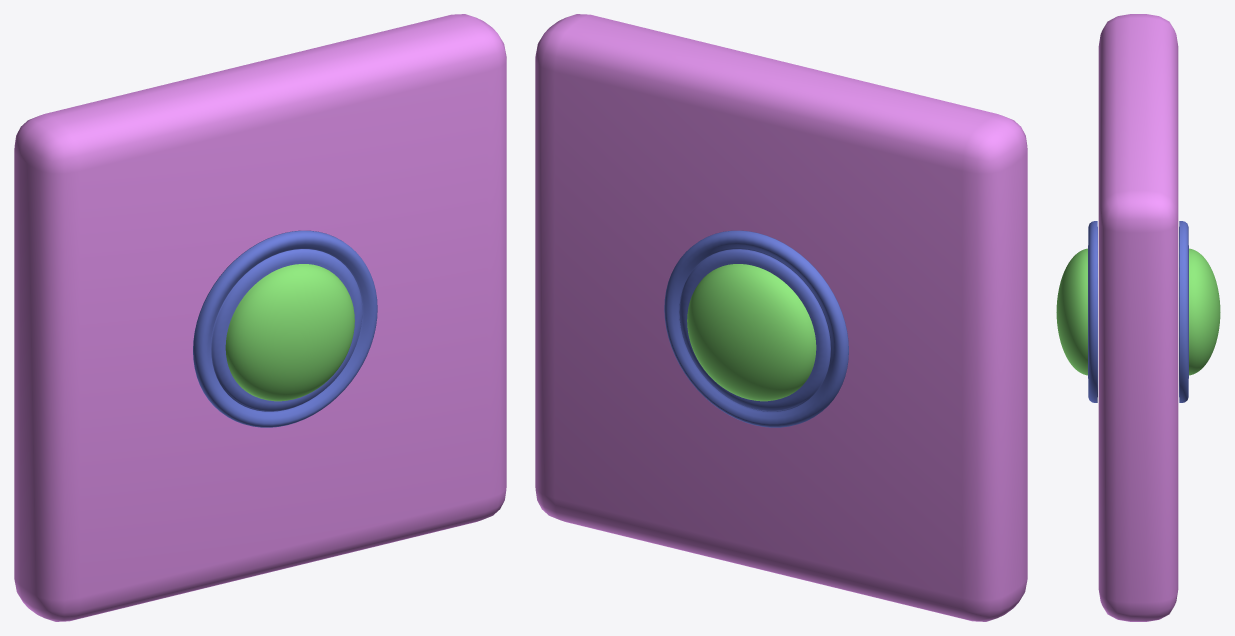
The model's file is Level6_Door.fbx.
3 views of the same model, side by side, from view 1: azimuth 30°, elevation 25°; view 2: azimuth 150°, elevation 25°; view 3: azimuth 270°, elevation 25° (orthographic). The views are drawn at different scales.
Visible parts, largest first — view 1: Level6_Door (×3); view 2: Level6_Door (×3); view 3: Level6_Door (×5).
Boxes of the visible parts, left/top/right/bottom form: Level6_Door (×3): left=14, top=14, right=506, bottom=621; Level6_Door (×3): left=535, top=14, right=1027, bottom=621; Level6_Door (×5): left=1056, top=14, right=1220, bottom=621.
Size of the model in its own units: 78.74 by 78.74 by 27.38.
